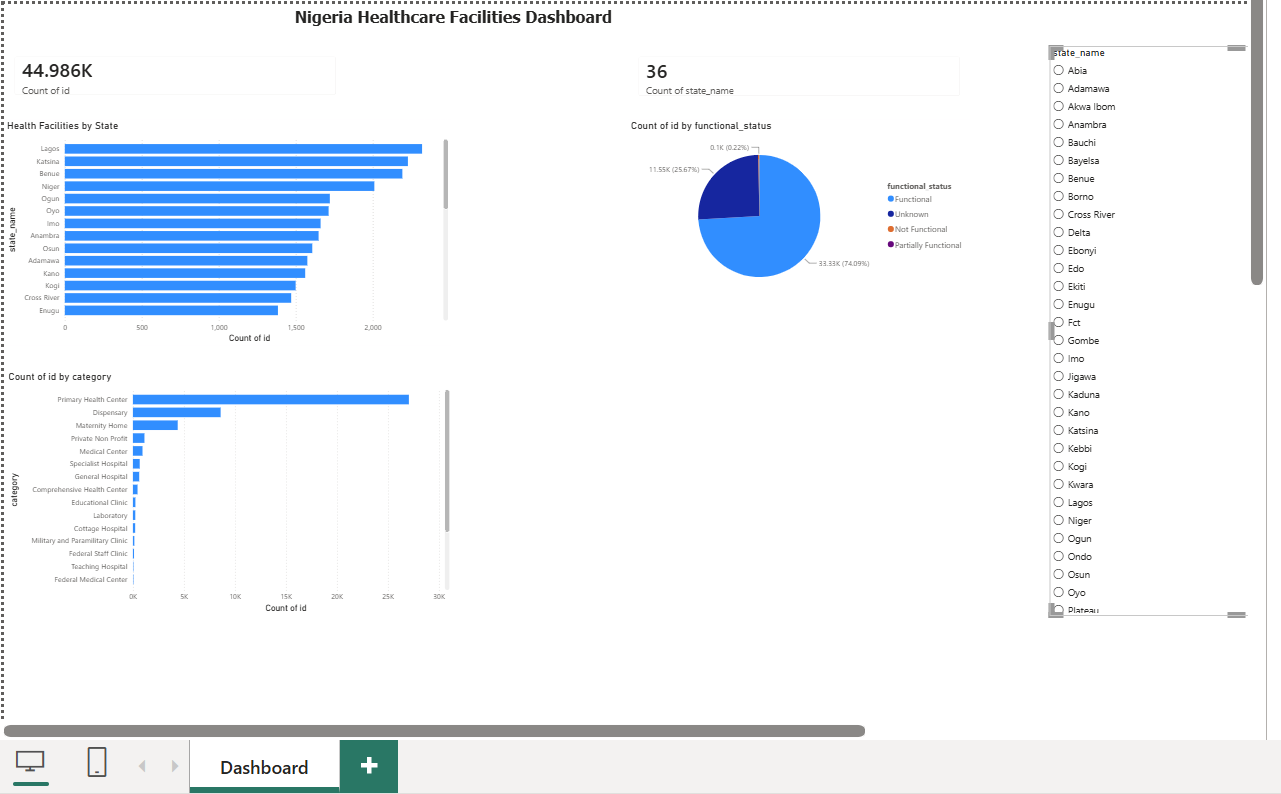

Layout of this report page (visuals, bound fields, positions):
{"tool":"powerbi","page":{"name":"Dashboard","canvas":[3000,3000],"ordinal":0},"visuals":[{"type":"barChart","title":"Health Facilities by State","fields":{"Category":["nigeria_healthcare_cleaned.state_name"],"Y":["CountNonNull(nigeria_healthcare_cleaned.id)"]},"box":[0,191.7,745,376.7],"z":0},{"type":"pieChart","fields":{"Category":["nigeria_healthcare_cleaned.functional_status"],"Y":["CountNonNull(nigeria_healthcare_cleaned.id)"]},"box":[1040,191.7,570,301.7],"z":1000},{"type":"barChart","fields":{"Category":["nigeria_healthcare_cleaned.category"],"Y":["CountNonNull(nigeria_healthcare_cleaned.id)"]},"box":[1.7,610,745,408.3],"z":2000},{"type":"cardVisual","fields":{"Data":["CountNonNull(nigeria_healthcare_cleaned.id)"]},"box":[0,70,570,98.3],"z":3000},{"type":"cardVisual","fields":{"Data":["Count(nigeria_healthcare_cleaned.state_name)"]},"box":[1040,70,570,100],"z":4000},{"type":"textbox","box":[460,0,570,60],"z":5000},{"type":"listSlicer","fields":{"Values":["nigeria_healthcare_cleaned.state_name"]},"box":[1742.5,70,622.5,950],"z":5001}]}

Visuals, with their boxes on the page's 3000x3000 design canvas (x1, y1, x2, y2). These are canvas units, not pixel positions in the 1281x794 screenshot, which may show the page scaled, cropped or inside an application window:
"Health Facilities by State" barChart: Rect(0, 192, 745, 568)
pieChart - nigeria_healthcare_cleaned.functional_status x CountNonNull(nigeria_healthcare_cleaned.id): Rect(1040, 192, 1610, 493)
barChart - nigeria_healthcare_cleaned.category x CountNonNull(nigeria_healthcare_cleaned.id): Rect(2, 610, 747, 1018)
cardVisual - CountNonNull(nigeria_healthcare_cleaned.id): Rect(0, 70, 570, 168)
cardVisual - Count(nigeria_healthcare_cleaned.state_name): Rect(1040, 70, 1610, 170)
textbox: Rect(460, 0, 1030, 60)
listSlicer - nigeria_healthcare_cleaned.state_name: Rect(1742, 70, 2365, 1020)
